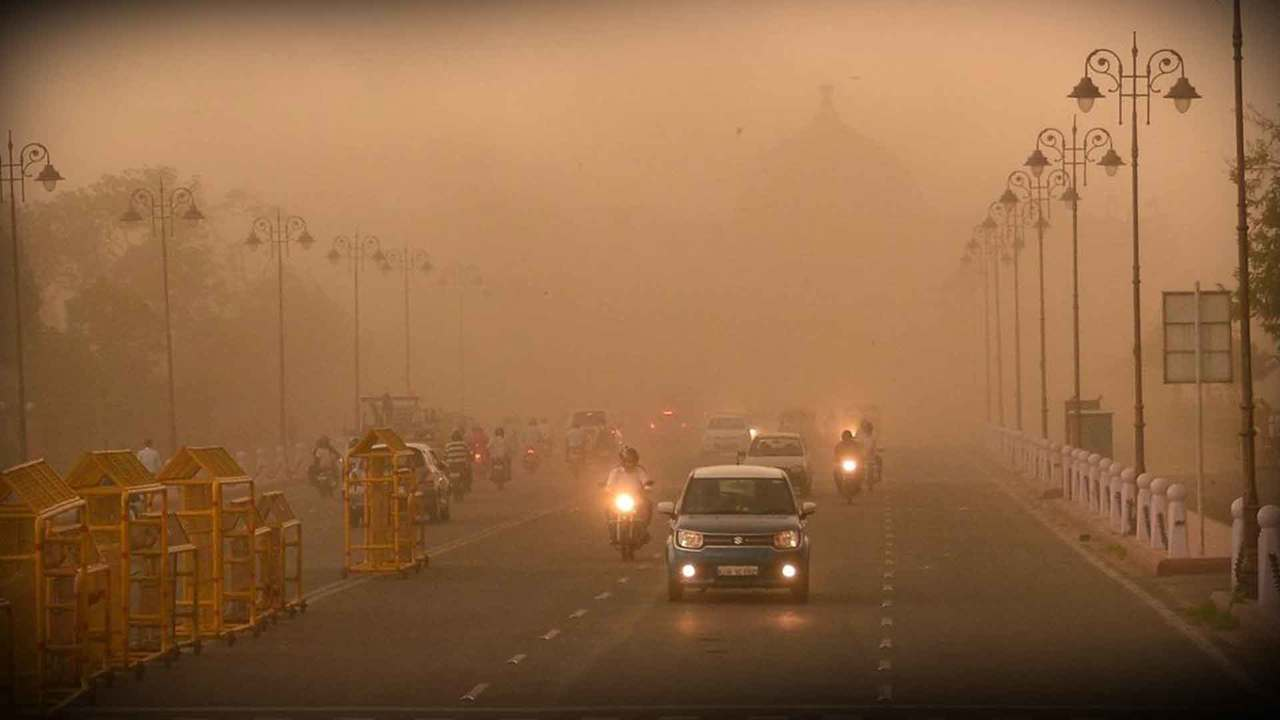car: (662, 463, 814, 602), (349, 444, 448, 525), (741, 432, 811, 497), (697, 414, 754, 463), (569, 410, 623, 453), (648, 407, 690, 440)
motorcycle: (602, 496, 648, 561), (831, 457, 862, 504), (859, 449, 885, 492), (487, 457, 510, 487), (444, 470, 466, 501), (313, 466, 335, 495), (520, 448, 540, 473), (468, 449, 484, 477)
person: (605, 448, 644, 540), (136, 441, 161, 508), (855, 421, 879, 475), (835, 433, 857, 488), (445, 429, 464, 490), (313, 438, 333, 486), (492, 425, 508, 474), (522, 425, 536, 459), (470, 426, 482, 464)
